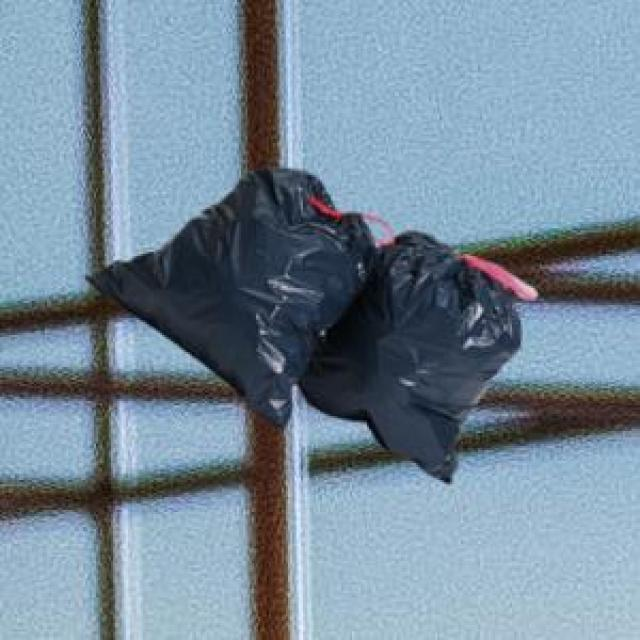miscellaneous trash: (81, 164, 533, 478)
